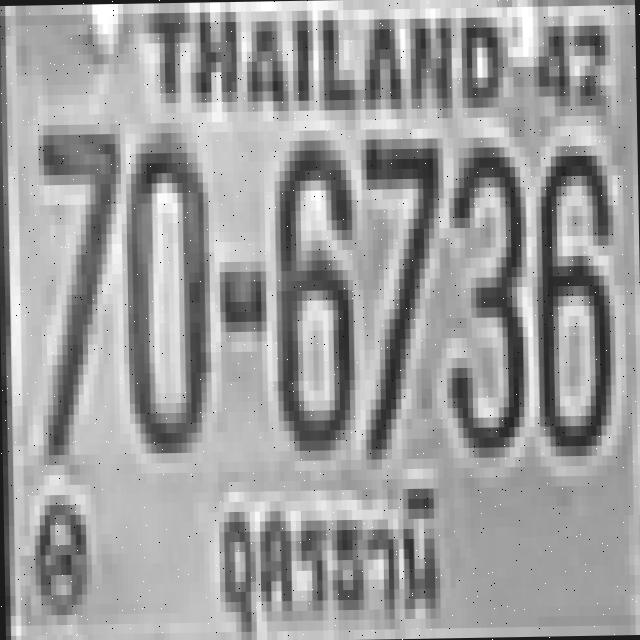0: (120, 122, 208, 443)
3: (442, 136, 524, 448)
6: (530, 135, 612, 446), (268, 130, 350, 440)
7: (38, 118, 120, 450), (360, 128, 438, 449)
UdonThani: (211, 464, 449, 640)
